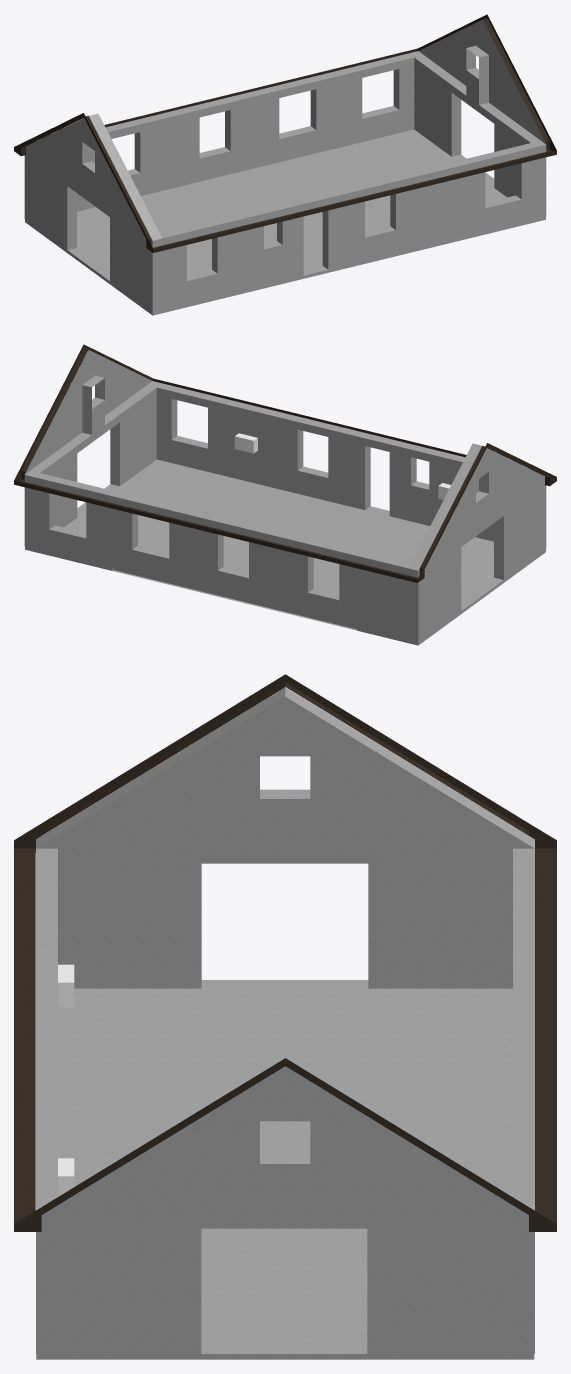
The model's file is prothree.glb.
3 views of the same model, one above another, from view 1: azimuth 30°, elevation 25°; view 2: azimuth 150°, elevation 25°; view 3: azimuth 270°, elevation 25° (orthographic). The views are drawn at different scales.
Parts seen in each view (by area): view 1: Cube, Cube.001; view 2: Cube, Cube.001, Cube.002; view 3: Cube, Cube.001.
Part boxes in pixels (x1,y1,x2,y2): Cube: (14, 14, 556, 312); Cube.001: (25, 129, 545, 315); Cube: (14, 344, 556, 642); Cube.001: (25, 459, 545, 645); Cube.002: (234, 433, 257, 453); Cube: (14, 674, 556, 1353); Cube.001: (36, 980, 534, 1359).
Bounding box in the file's own units: 16.47 × 6.13 × 9.85.
5 materials, 3 textured.
